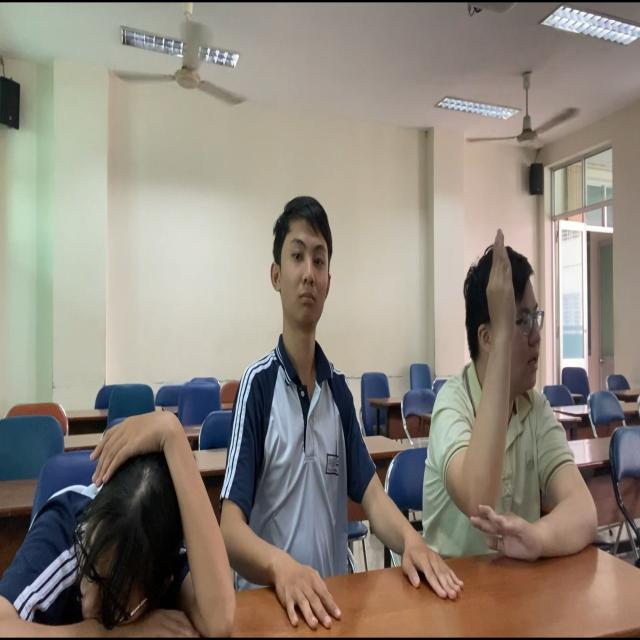raise_hand: (428, 229, 602, 565)
sleep: (9, 412, 244, 640)
